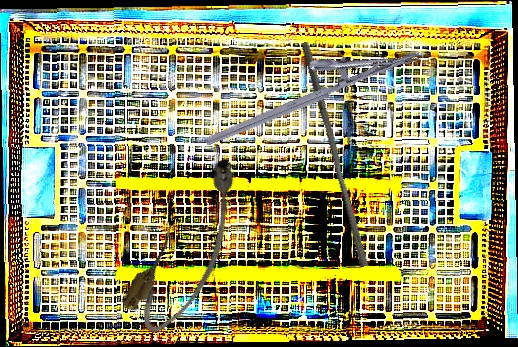Cannula: (115, 150, 267, 343)
Needle Holder: (192, 21, 422, 148)
Pusher: (291, 41, 377, 268)
